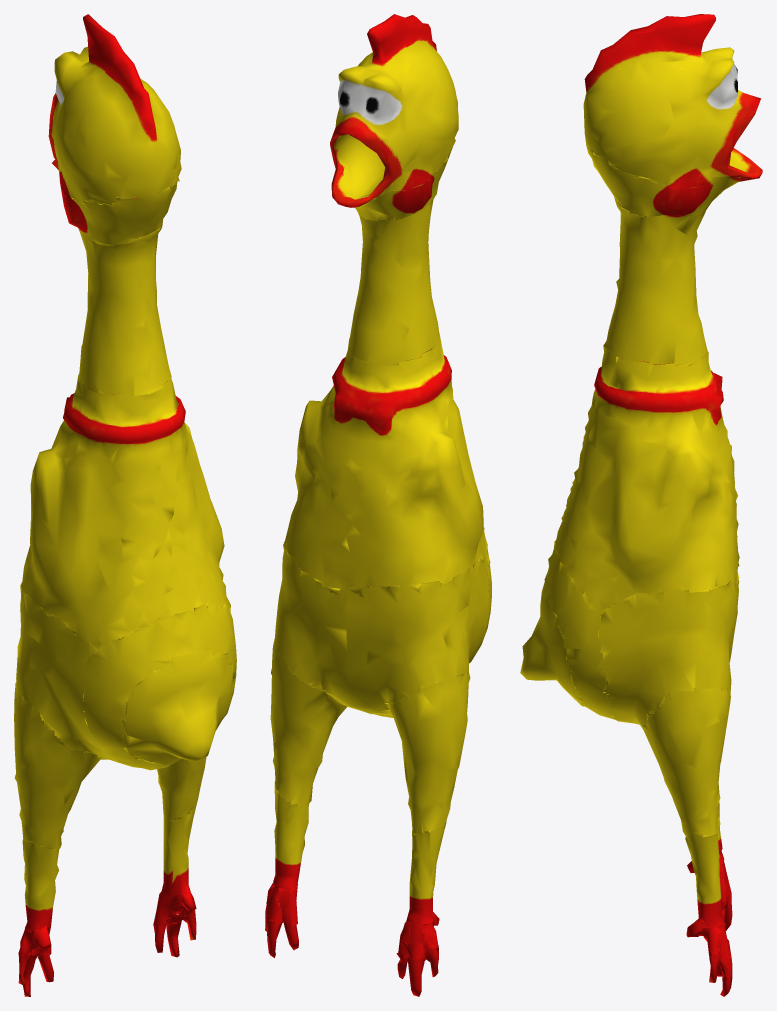
The model's file is RubberChicken.fbx.
3 views of the same model, side by side, from view 1: azimuth 30°, elevation 25°; view 2: azimuth 150°, elevation 25°; view 3: azimuth 270°, elevation 25° (orthographic). The views are drawn at different scales.
Parts seen in each view (by area): view 1: chicken; view 2: chicken; view 3: chicken.
Part boxes in pixels (left/top/right/bottom): chicken: left=14, top=14, right=236, bottom=996; chicken: left=265, top=14, right=491, bottom=996; chicken: left=520, top=14, right=762, bottom=996.
Bounding box in the file's own units: 13.79 × 66.73 × 15.59.
